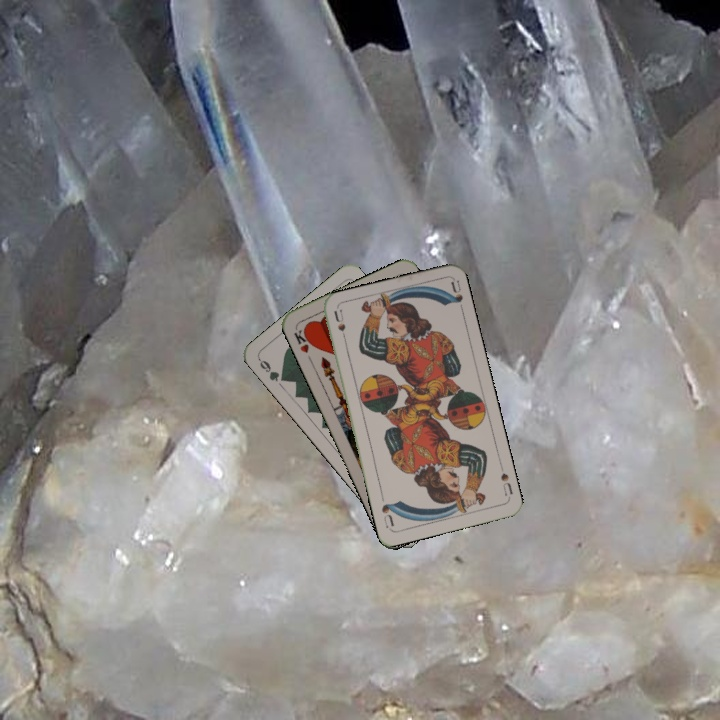G9: (255, 355, 290, 384)
HK: (290, 324, 315, 355)
SU: (330, 306, 350, 347), (496, 461, 516, 500)
